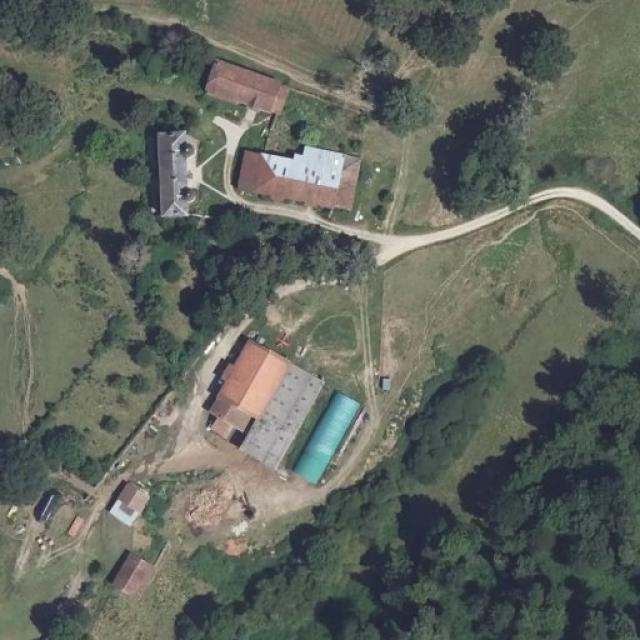ferme: (208, 334, 358, 476), (234, 138, 365, 218), (201, 56, 300, 121), (114, 556, 156, 598), (113, 485, 151, 524)
maison: (155, 129, 201, 219)
